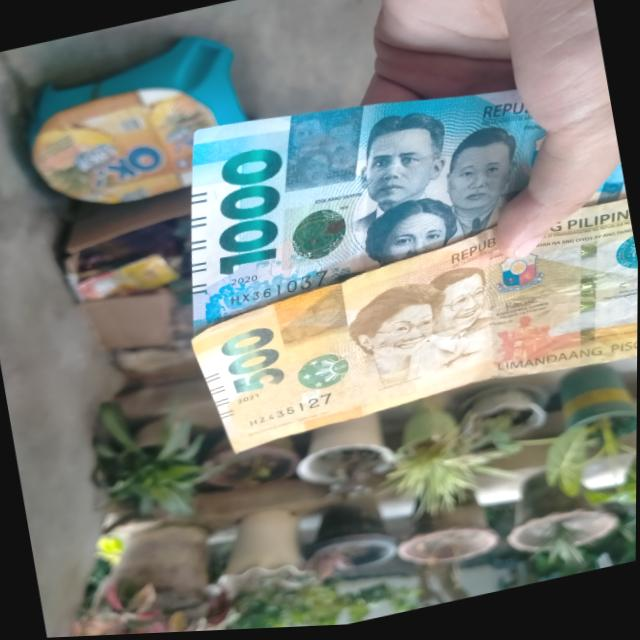concealed_value: (274, 102, 380, 202), (265, 282, 358, 355)
optically_variable_device: (270, 190, 378, 283), (279, 338, 371, 412)
security_thread: (555, 211, 621, 373)
value: (194, 136, 313, 289), (210, 321, 295, 409)
